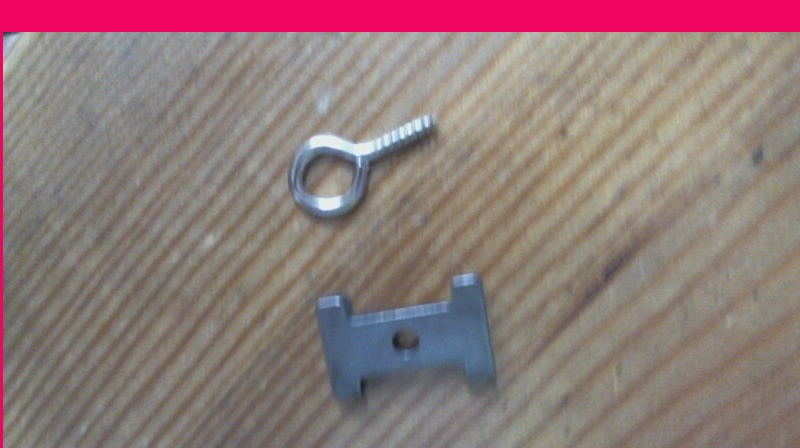O001: (278, 108, 449, 222)
O002: (310, 271, 501, 408)
